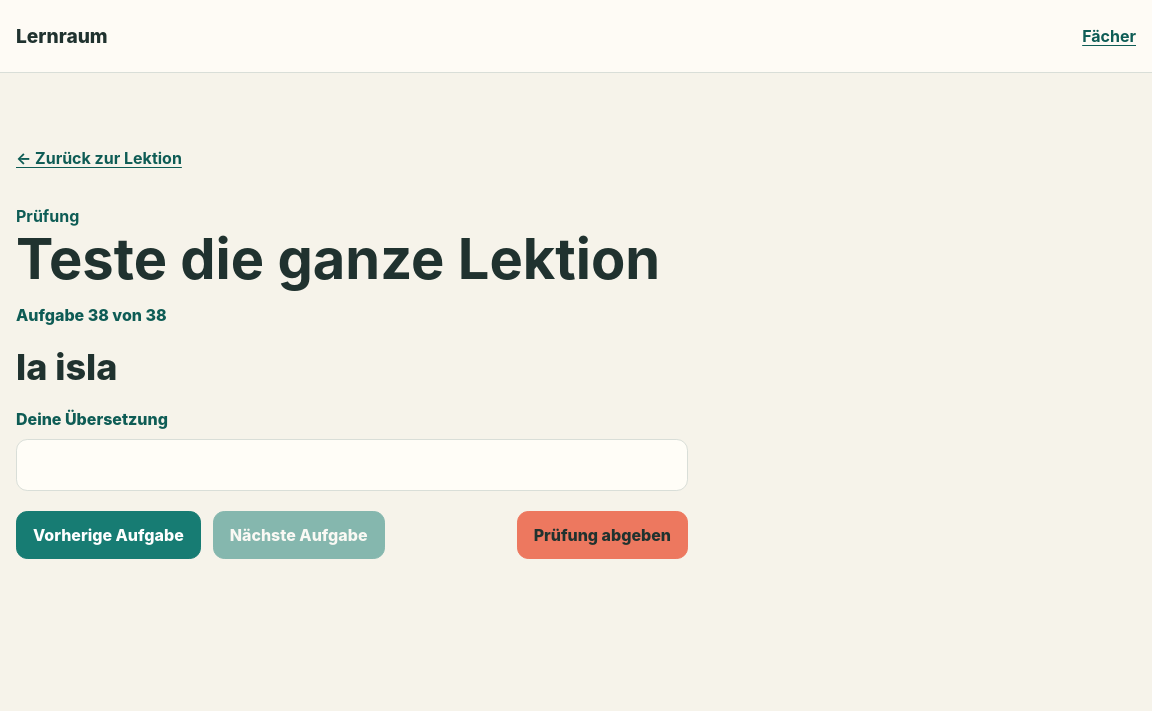
Test: ExamMode › scores blanks as wrong, records every entry once, and renders the complete review
The width and height of the screenshot is (1152, 711).
Expected: the text "19 von 38 richtig (50 %)" is not shown
Step 1. Click the button "Prüfung abgeben" → (602, 534), box x1=517 y1=510 x2=688 y2=558
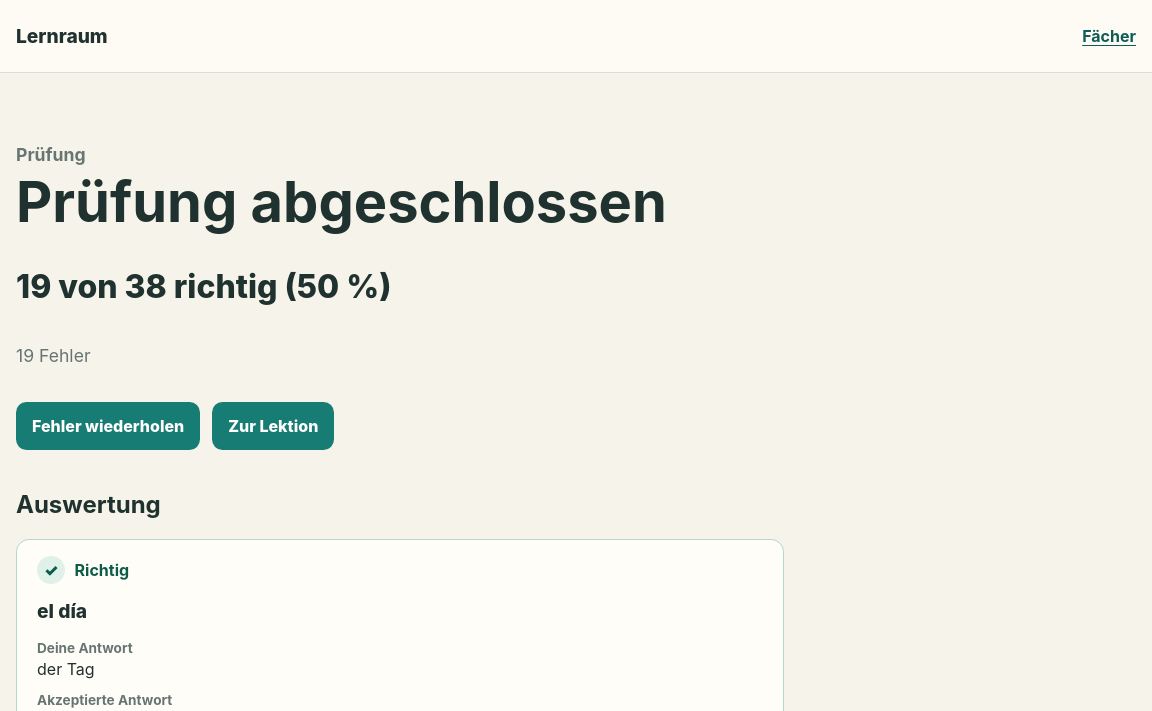
Result: the heading "Prüfung abgeschlossen" is shown at x1=16 y1=172 x2=771 y2=231
Result: the text "19 von 38 richtig (50 %)" is shown at x1=16 y1=267 x2=391 y2=306
Result: the text "19 Fehler" is shown at x1=16 y1=345 x2=90 y2=366
